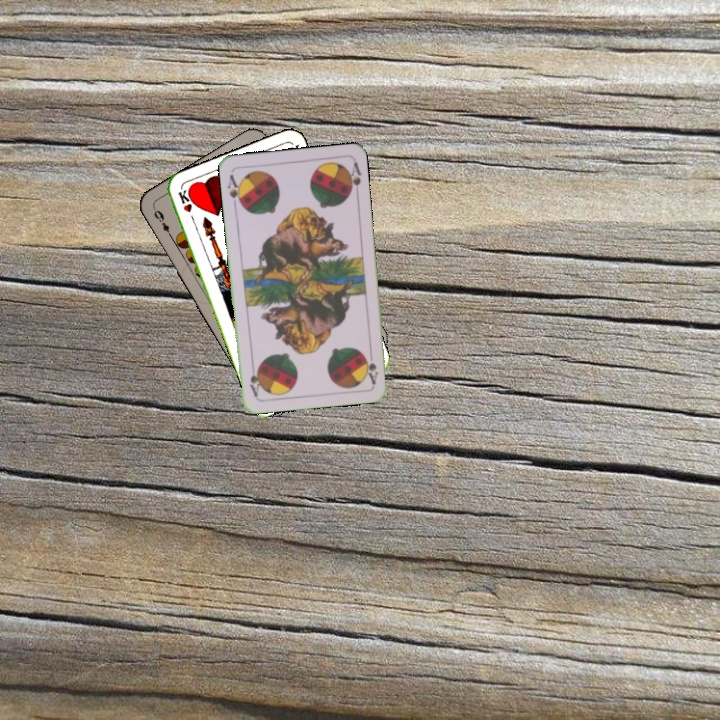E9: (150, 204, 175, 241)
HK: (174, 185, 198, 225)
SA: (224, 170, 245, 210), (361, 346, 381, 386)
